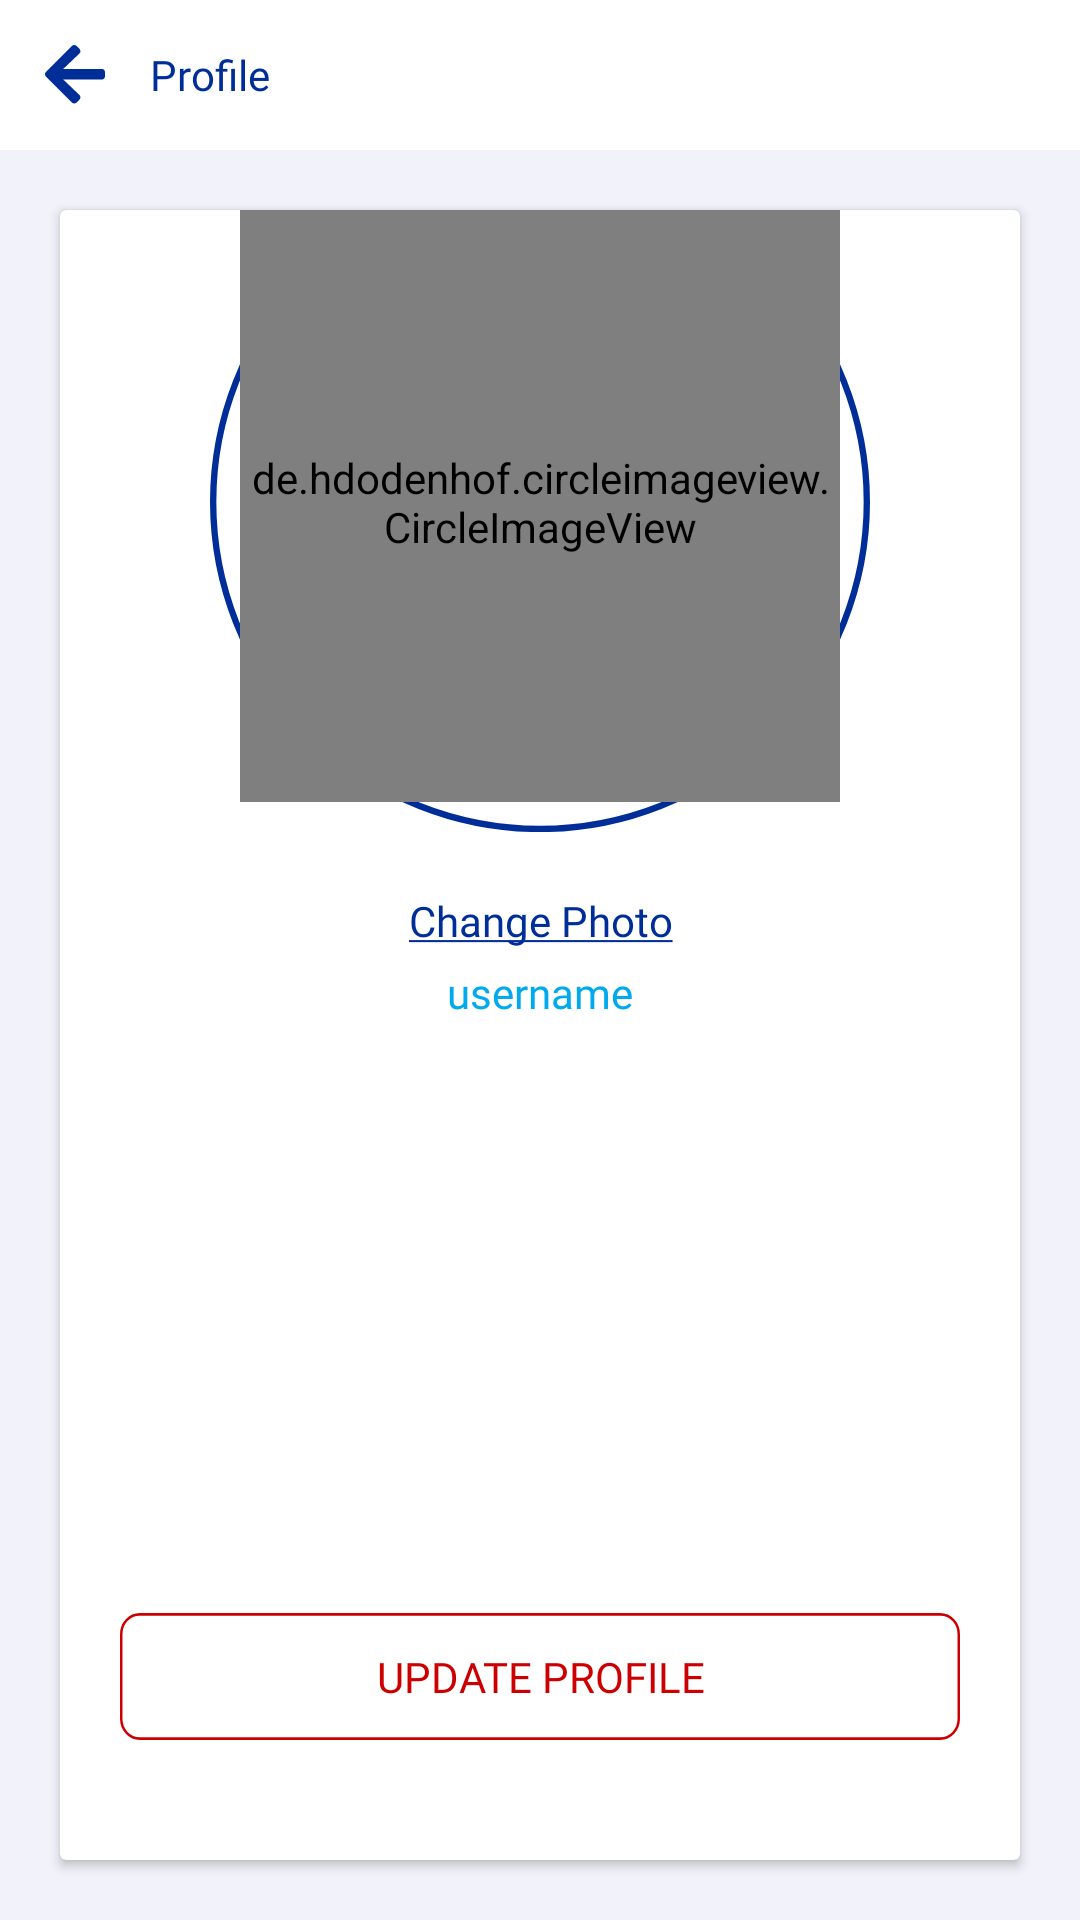

Screen size 1080*1920. Icon name, then its center in pixels as [x,y]:
arrow back: [75,74]
